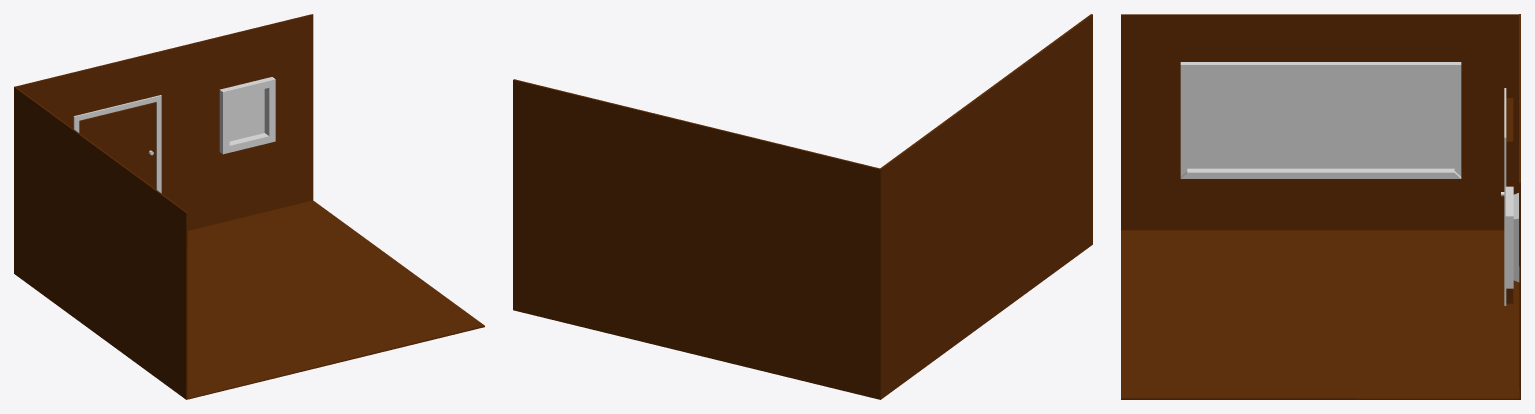
The model's file is Puerta pintada.fbx.
The picture shows the model from 3 angles, left to right: view 1: azimuth 30°, elevation 25°; view 2: azimuth 150°, elevation 25°; view 3: azimuth 270°, elevation 25°; orthographic projection. The views are drawn at different scales.
Visible parts, largest first — view 1: Paredes y piso, Puerta, Ventana, Marco puerta; view 2: Paredes y piso; view 3: Paredes y piso, Pizarrón, Pizarrón2, Ventana, Puerta, Marco puerta.
Part boxes in pixels (left/top/right/bottom): Paredes y piso: left=14, top=14, right=484, bottom=399; Puerta: left=79, top=102, right=156, bottom=189; Ventana: left=219, top=77, right=275, bottom=154; Marco puerta: left=73, top=95, right=161, bottom=193; Paredes y piso: left=513, top=14, right=1092, bottom=399; Paredes y piso: left=1121, top=14, right=1520, bottom=399; Pizarrón: left=1180, top=64, right=1461, bottom=178; Pizarrón2: left=1180, top=62, right=1461, bottom=178; Ventana: left=1505, top=186, right=1519, bottom=288; Puerta: left=1506, top=98, right=1513, bottom=303; Marco puerta: left=1504, top=88, right=1506, bottom=305.
Size of the model in its own units: 1529 by 916 by 1529.
